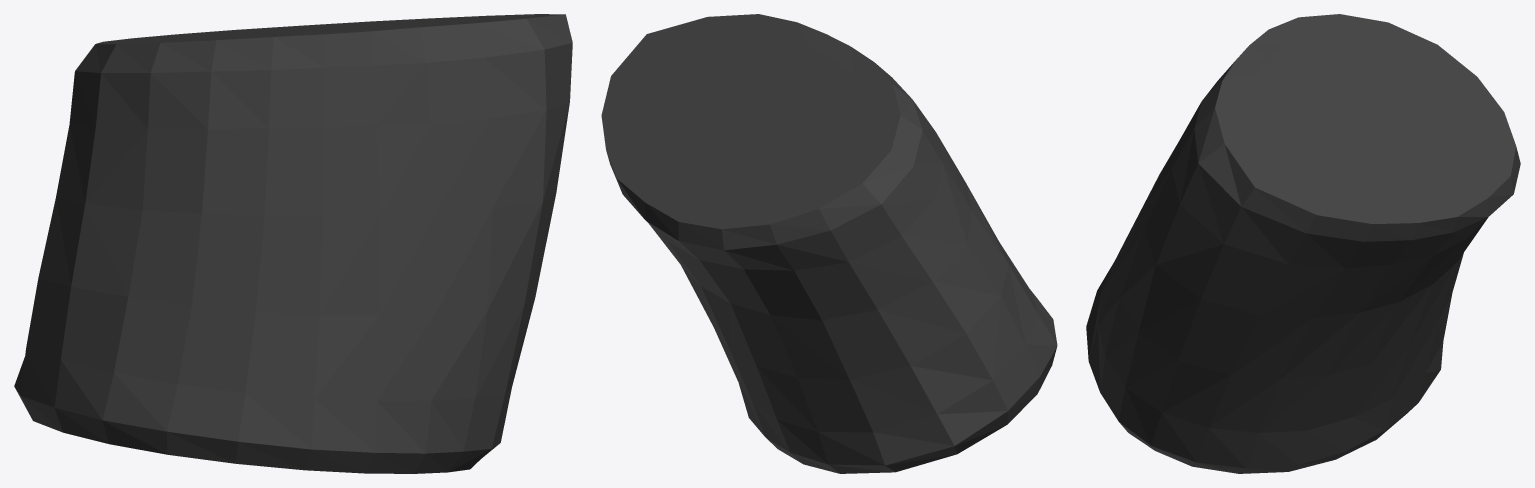
File: L_sided_ASCENDING_AORTA.glb
3 views of the same model, side by side, from view 1: azimuth 30°, elevation 25°; view 2: azimuth 150°, elevation 25°; view 3: azimuth 270°, elevation 25° (orthographic). The views are drawn at different scales.
Parts seen in each view (by area): view 1: L_sided_ASCENDING_AORTA; view 2: L_sided_ASCENDING_AORTA; view 3: L_sided_ASCENDING_AORTA.
Boxes of the visible parts, <box> form: L_sided_ASCENDING_AORTA: <box>14,14,572,473</box>; L_sided_ASCENDING_AORTA: <box>601,14,1057,473</box>; L_sided_ASCENDING_AORTA: <box>1086,14,1520,473</box>.
Size of the model in its own units: 2.11 by 1.78 by 1.8.
Materials: 1 (1 with a texture image).
